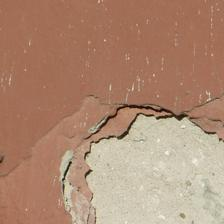Crack: (60, 0, 131, 106), (87, 7, 128, 83)
